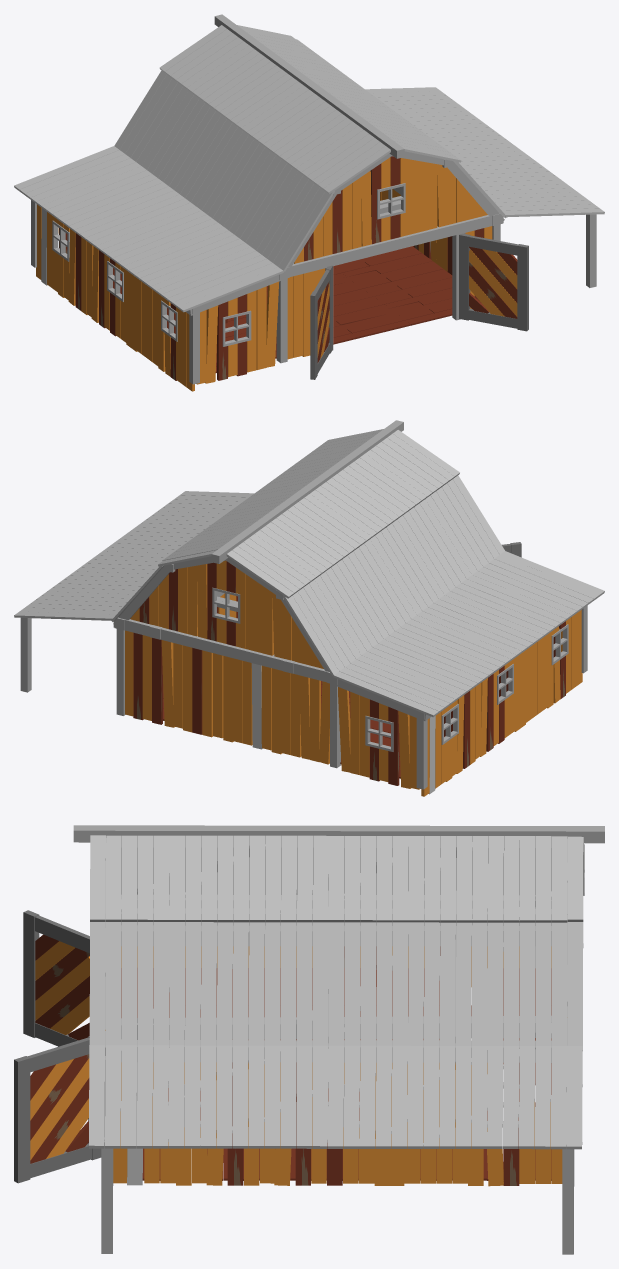
The model's file is Granero.fbx.
The picture shows the model from 3 angles, top to bottom: view 1: azimuth 30°, elevation 25°; view 2: azimuth 150°, elevation 25°; view 3: azimuth 270°, elevation 25°; orthographic projection. The views are drawn at different scales.
Parts seen in each view (by area): view 1: Cubo.083, texMade.121, Cubo.149, Cubo.101; view 2: Cubo.083, texMade.121; view 3: Cubo.083, Cubo.149, Cubo.101, texMade.121.
Boxes of the visible parts, x1,y1,x2,y2 form: Cubo.083: (14, 14, 604, 391); texMade.121: (113, 246, 452, 372); Cubo.149: (459, 233, 528, 331); Cubo.101: (310, 265, 332, 379); Cubo.083: (14, 420, 604, 796); texMade.121: (163, 671, 508, 778); Cubo.083: (73, 825, 604, 1254); Cubo.149: (14, 1036, 101, 1183); Cubo.101: (23, 910, 89, 1046); texMade.121: (121, 968, 551, 1180).
Bounding box in the file's own units: 1371 × 638 × 1149.
